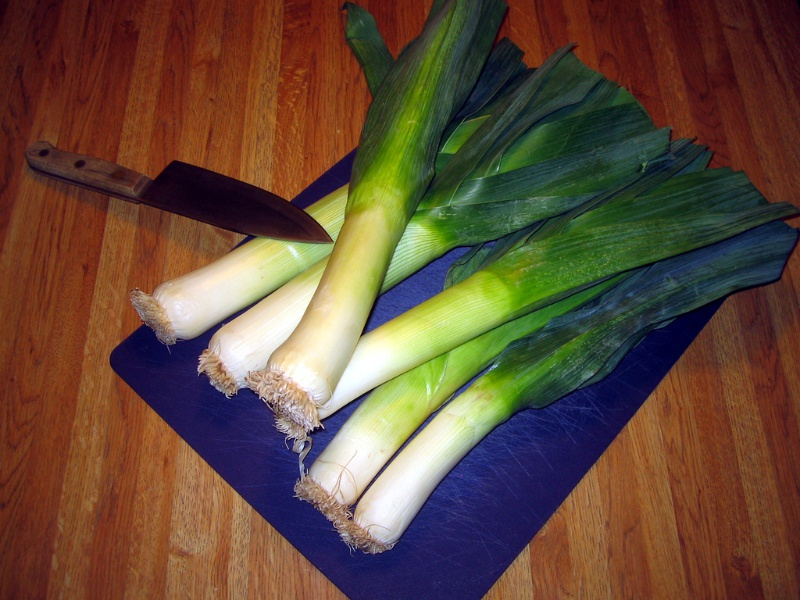knife: (36, 10, 446, 593), (39, 230, 776, 400), (4, 397, 555, 577)
